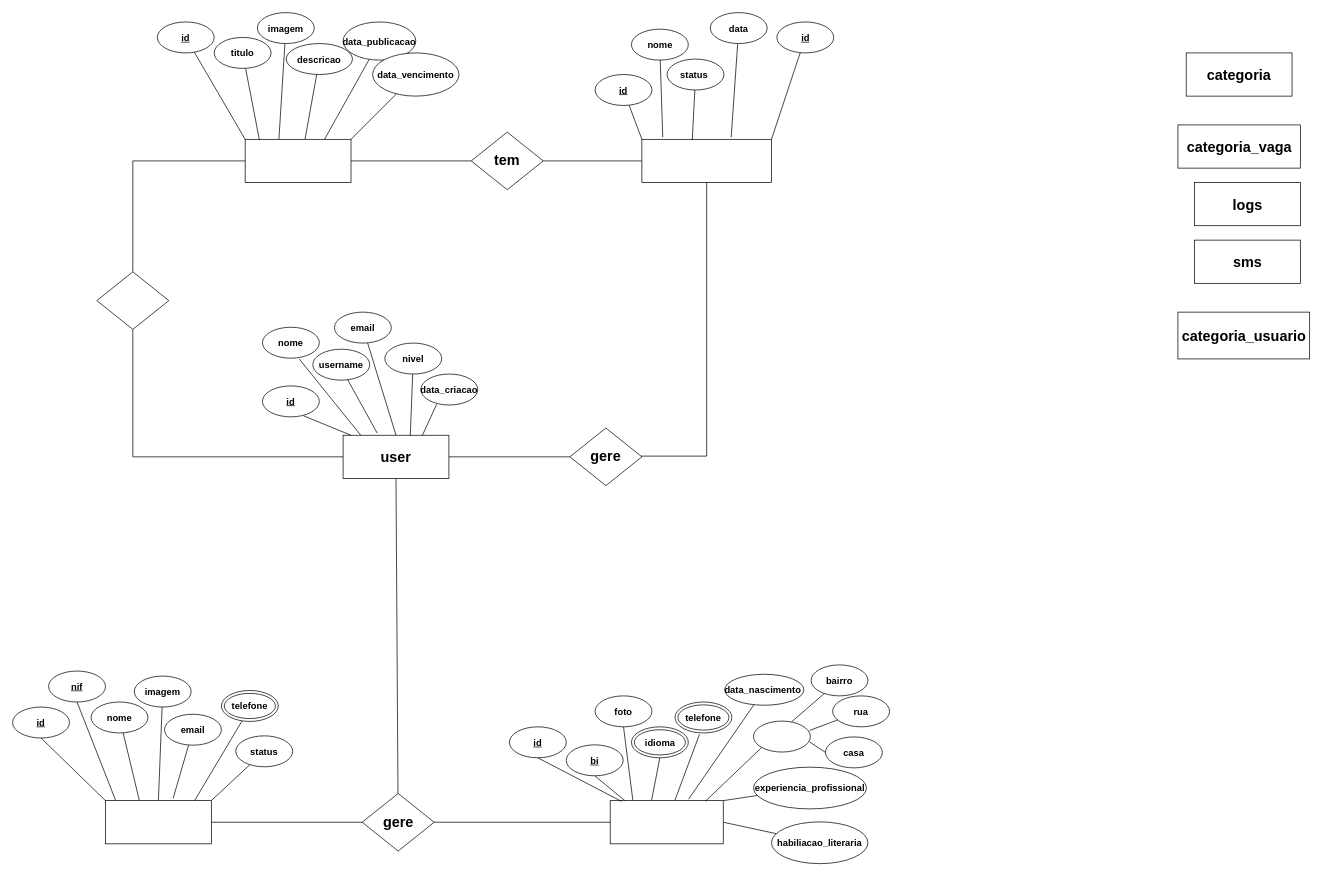
This 1323x890 diagram has some shape labels left out. The box of each missing label's shape, as (x1, y1, x2, y2) in pixels:
candidatura: (641, 139, 771, 183)
dados_perfil: (609, 800, 723, 844)
empresa: (105, 800, 211, 844)
endereco: (753, 720, 810, 752)
publica: (96, 271, 169, 329)
vaga: (244, 139, 351, 183)
